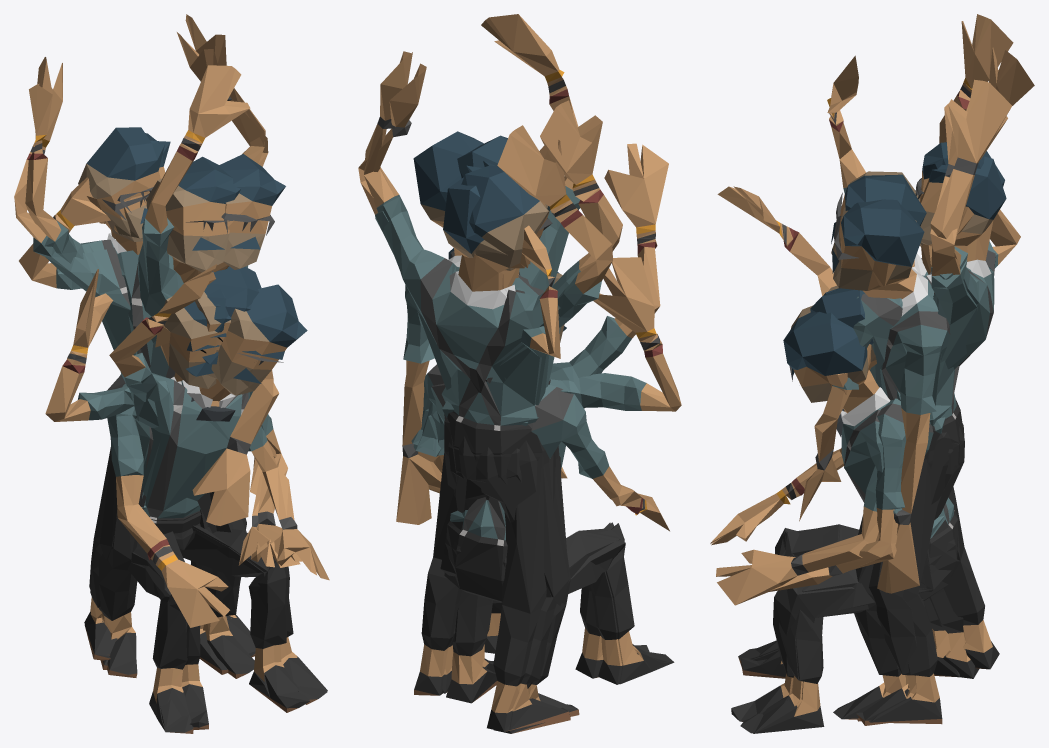
File: crowd_c.glb
3 renders of one model, left to right at view 1: azimuth 30°, elevation 25°; view 2: azimuth 150°, elevation 25°; view 3: azimuth 270°, elevation 25°, orthographic. The views are drawn at different scales.
Parts seen in each view (by area): view 1: sit, fist_a, sit_cheer_b, sit_cheer_a, fist_b, arms_b, arms_a; view 2: arms_b, fist_b, arms_a, sit, sit_cheer_a, sit_cheer_b, fist_a; view 3: fist_b, arms_b, sit_cheer_b, sit, arms_a, fist_a, sit_cheer_a.
Boxes of the visible parts, x1,y1,x2,y2 form: sit: [107, 271, 329, 730]; fist_a: [19, 156, 279, 678]; sit_cheer_b: [109, 264, 327, 727]; sit_cheer_a: [45, 266, 327, 733]; fist_b: [99, 65, 285, 674]; arms_b: [25, 14, 265, 655]; arms_a: [14, 32, 268, 660]; arms_b: [364, 51, 622, 731]; fist_b: [396, 14, 580, 733]; arms_a: [358, 63, 612, 730]; sit: [431, 272, 669, 678]; sit_cheer_a: [411, 257, 681, 684]; sit_cheer_b: [413, 143, 668, 684]; fist_a: [448, 135, 579, 716]; fist_b: [827, 55, 979, 721]; arms_b: [869, 14, 1013, 724]; sit_cheer_b: [717, 186, 951, 733]; sit: [710, 288, 958, 721]; arms_a: [856, 47, 1034, 725]; fist_a: [799, 171, 1020, 719]; sit_cheer_a: [738, 285, 955, 733].
Size of the model in its own units: 0.9488 by 2.17 by 0.9875.
Materials: 1 (1 with a texture image).
